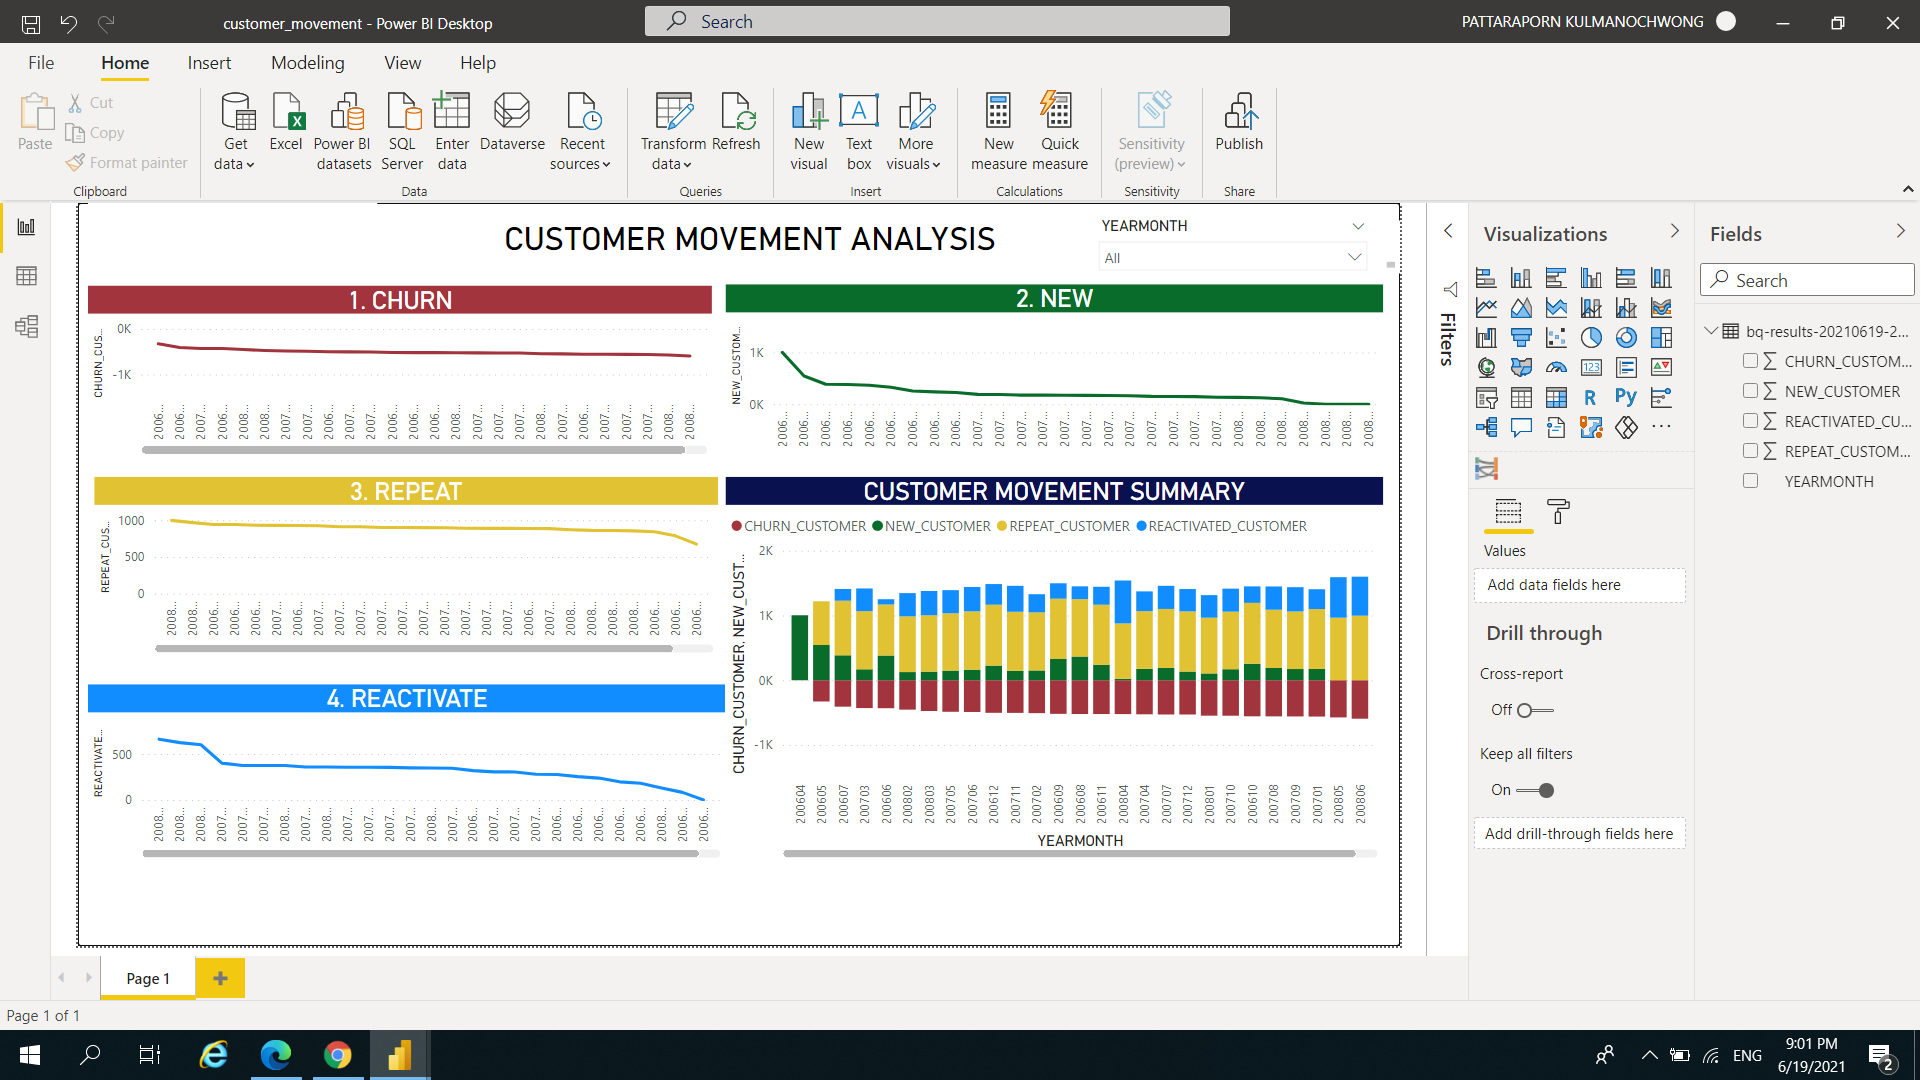

What the dashboard file says about the page in this screenshot:
{"tool":"powerbi","page":{"name":"Page 1","canvas":[1280,720],"ordinal":0},"visuals":[{"type":"textbox","box":[10,0,280,280],"z":0},{"type":"textbox","title":"CUSTOMER MOVEMENT ANALYSIS","box":[20.6,16.9,1259.7,50.8],"z":1},{"type":"slicer","fields":{"Values":["bq-results-20210619-202810-8vu211e9sfag.YEARMONTH"]},"box":[977.7,8.5,280.7,69],"z":2},{"type":"lineChart","title":"1. CHURN","fields":{"Y":["Sum(bq-results-20210619-202810-8vu211e9sfag.CHURN_CUSTOMER)"],"Category":["bq-results-20210619-202810-8vu211e9sfag.YEARMONTH"]},"box":[9.7,79.9,603.8,168.2],"z":3},{"type":"lineChart","title":"2. NEW","fields":{"Y":["Sum(bq-results-20210619-202810-8vu211e9sfag.NEW_CUSTOMER)"],"Category":["bq-results-20210619-202810-8vu211e9sfag.YEARMONTH"]},"box":[626.8,78.7,636.5,168.2],"z":4},{"type":"lineChart","title":"3. REPEAT","fields":{"Y":["Sum(bq-results-20210619-202810-8vu211e9sfag.REPEAT_CUSTOMER)"],"Category":["bq-results-20210619-202810-8vu211e9sfag.YEARMONTH"]},"box":[15.7,265,603.8,175.5],"z":5},{"type":"lineChart","title":"4. REACTIVATE","fields":{"Y":["Sum(bq-results-20210619-202810-8vu211e9sfag.REACTIVATED_CUSTOMER)"],"Category":["bq-results-20210619-202810-8vu211e9sfag.YEARMONTH"]},"box":[9.7,465.9,617.1,173],"z":6},{"type":"columnChart","title":"CUSTOMER MOVEMENT SUMMARY","fields":{"Y":["Sum(bq-results-20210619-202810-8vu211e9sfag.CHURN_CUSTOMER)","Sum(bq-results-20210619-202810-8vu211e9sfag.NEW_CUSTOMER)","Sum(bq-results-20210619-202810-8vu211e9sfag.REPEAT_CUSTOMER)","Sum(bq-results-20210619-202810-8vu211e9sfag.REACTIVATED_CUSTOMER)"],"Category":["bq-results-20210619-202810-8vu211e9sfag.YEARMONTH"]},"box":[626.8,265,636.5,373.9],"z":7}]}

Visuals, with their boxes on the page's 1280x720 design canvas (x1, y1, x2, y2). These are canvas units, not pixel positions in the 1924x1080 screenshot, which may show the page scaled, cropped or inside an application window:
textbox: 10/0/290/280
"CUSTOMER MOVEMENT ANALYSIS" textbox: 21/17/1280/68
slicer - bq-results-20210619-202810-8vu211e9sfag.YEARMONTH: 978/8/1258/78
"1. CHURN" lineChart: 10/80/614/248
"2. NEW" lineChart: 627/79/1263/247
"3. REPEAT" lineChart: 16/265/620/440
"4. REACTIVATE" lineChart: 10/466/627/639
"CUSTOMER MOVEMENT SUMMARY" columnChart: 627/265/1263/639
